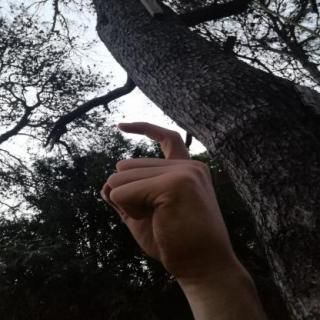RAA: (90, 111, 250, 282)
